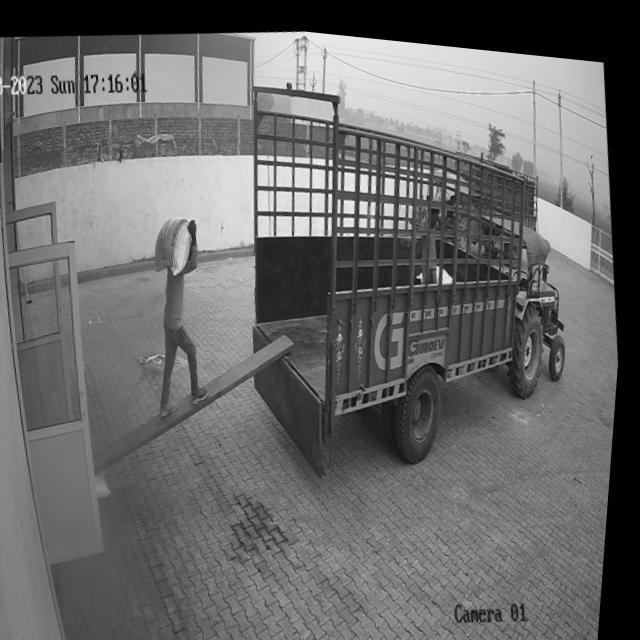sack: (151, 209, 201, 276)
